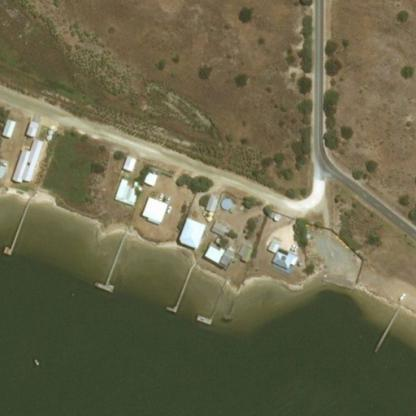ship: (31, 357, 36, 365)
